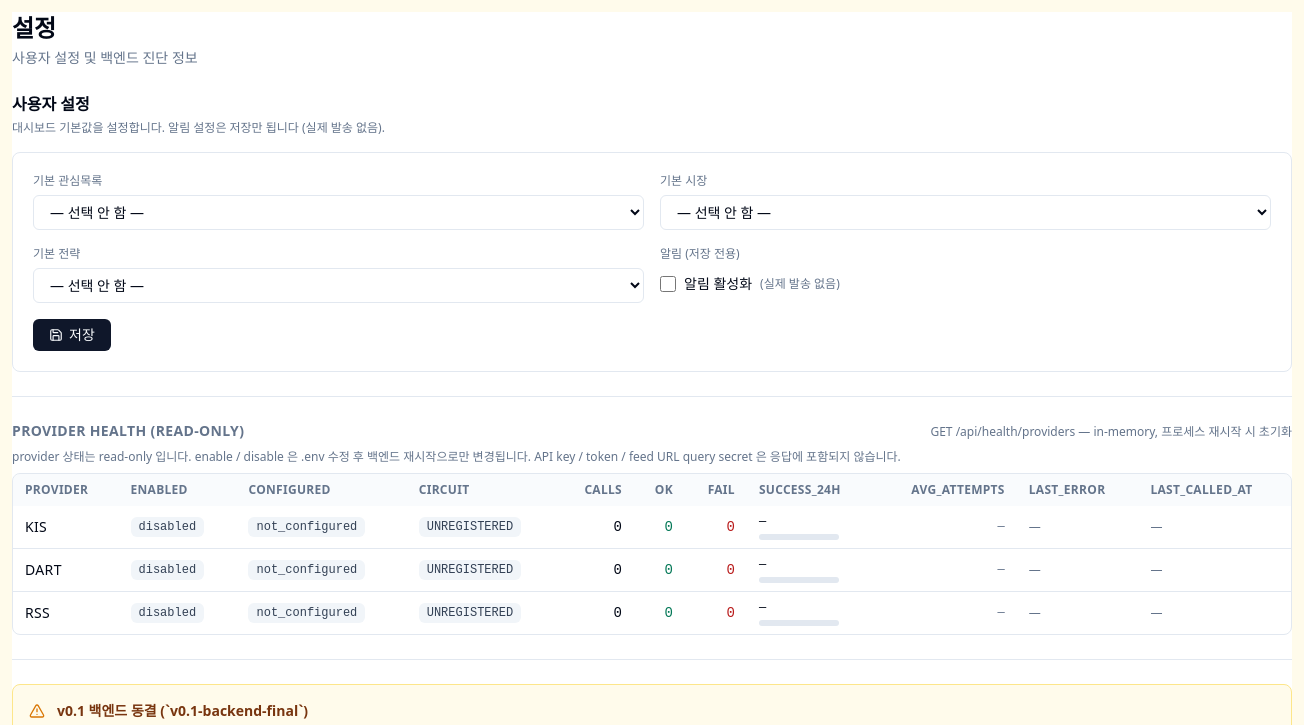
Scenario: SettingsPage — UserPreference section › updates default_market
This screenshot has width=1304, height=725.
Select "KOSPI" in the dropdown with test id "pref-default-market" at (966, 212), box [660, 195, 1271, 230]
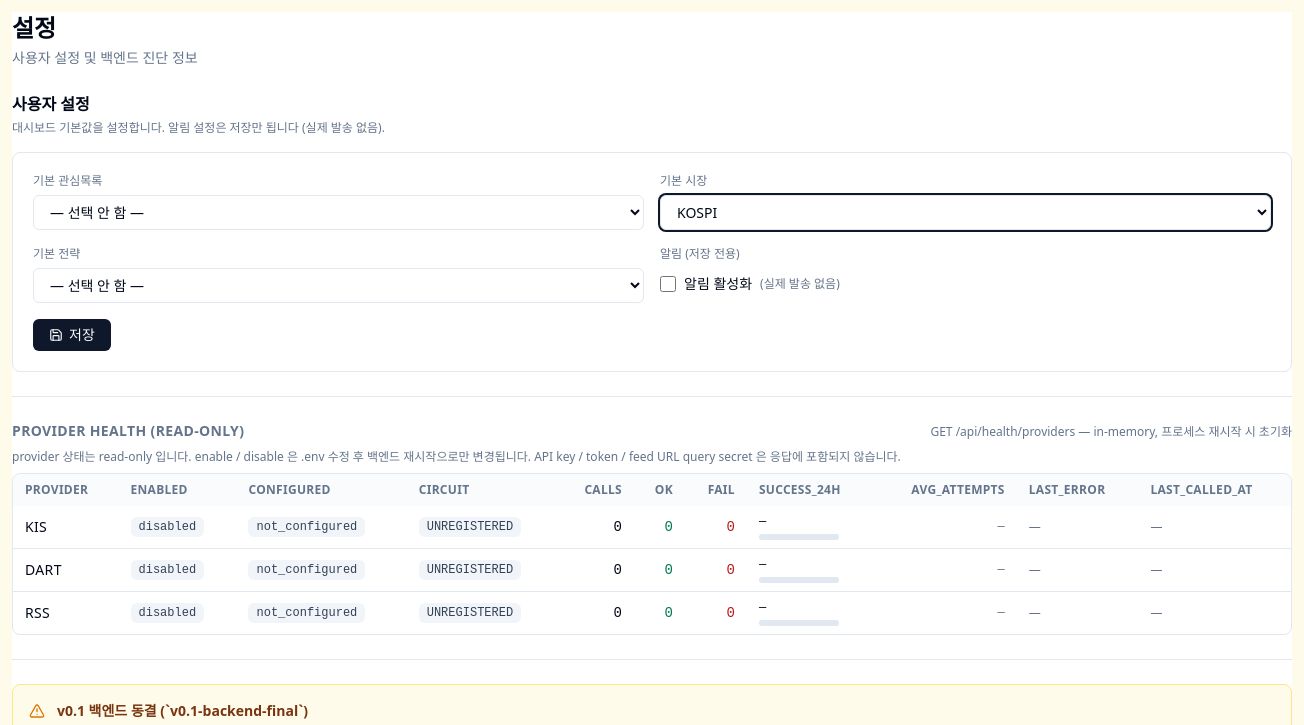
Click the button with test id "pref-save-btn" at (72, 335), box [33, 319, 111, 351]
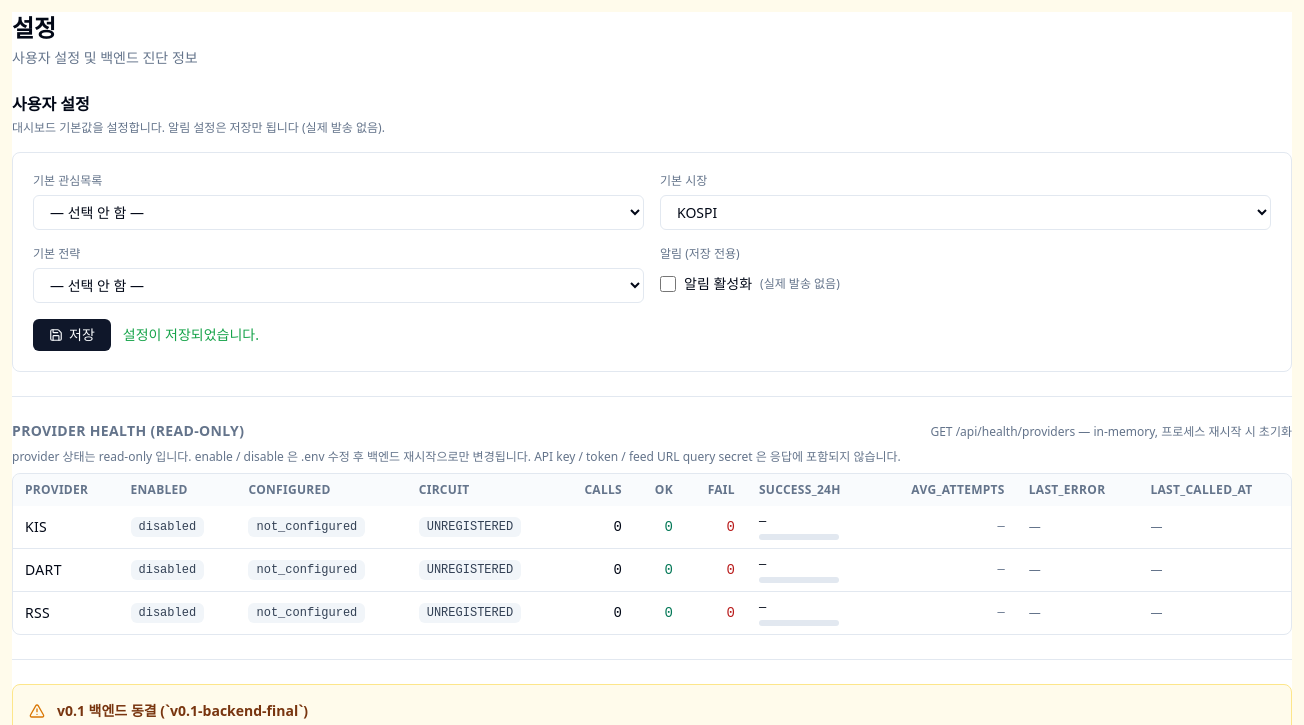
Check: the text "설정이 저장되었습니다." is shown, box [123, 325, 259, 345]
